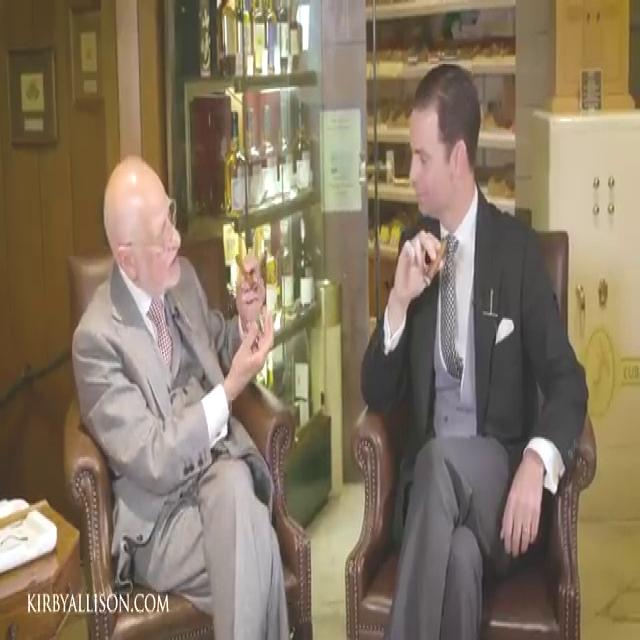Smooking: (421, 222, 454, 292)
